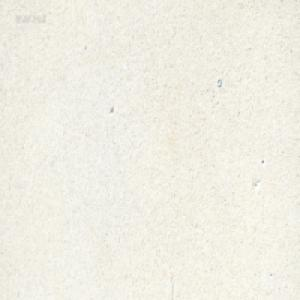Washer: (216, 75, 222, 86)
